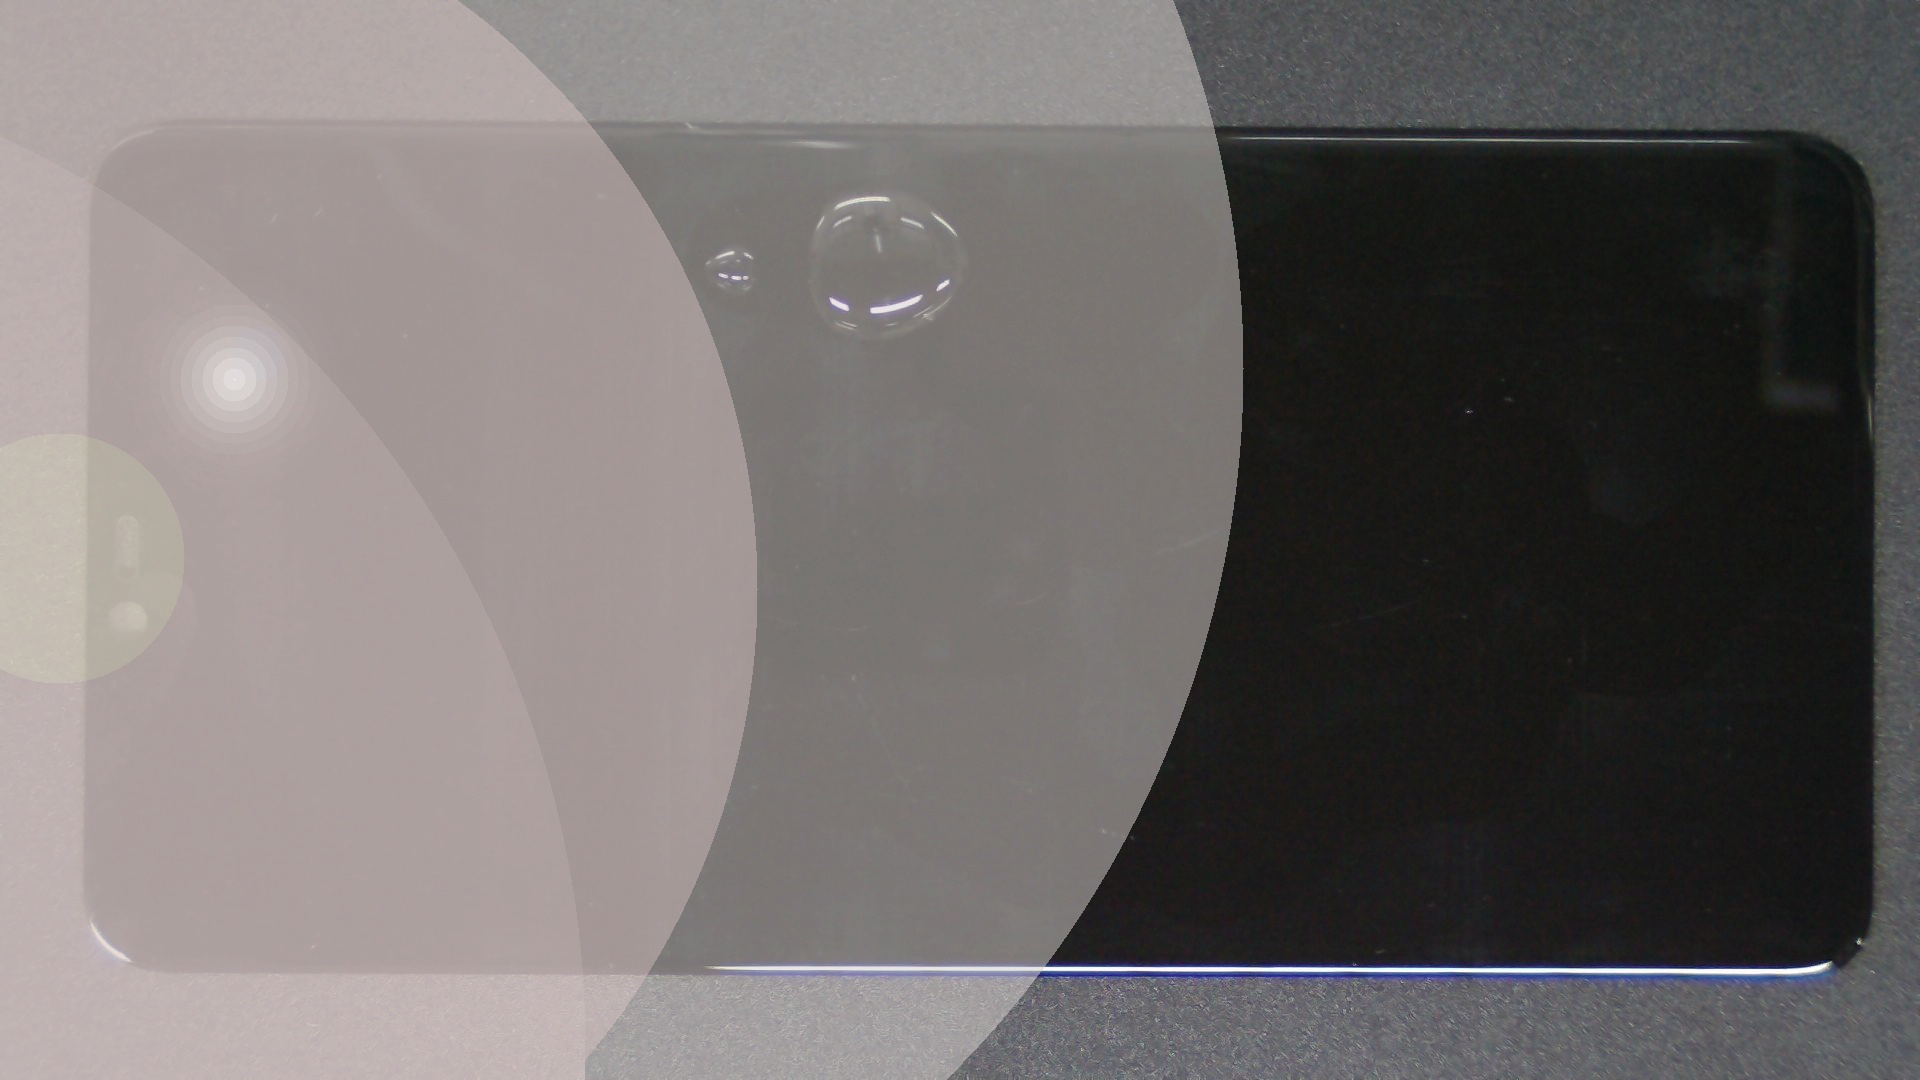oil: (369, 123, 1105, 368), (433, 92, 1288, 284)
